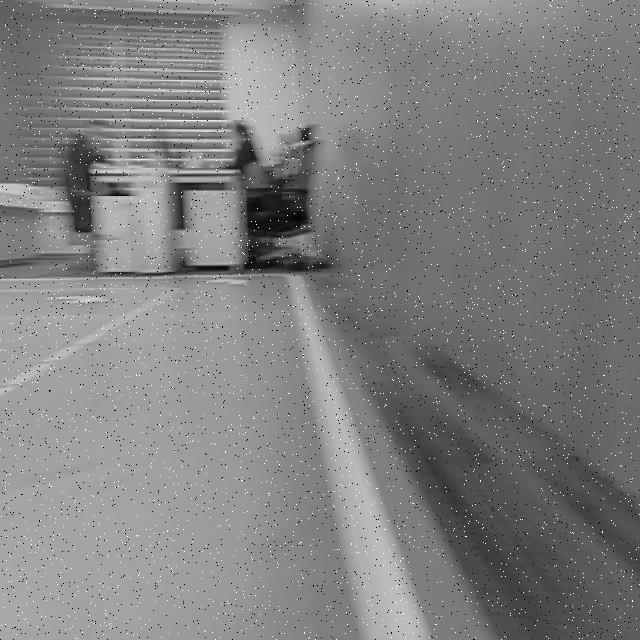left_lane: (0, 291, 174, 400)
right_lane: (287, 283, 397, 639)
